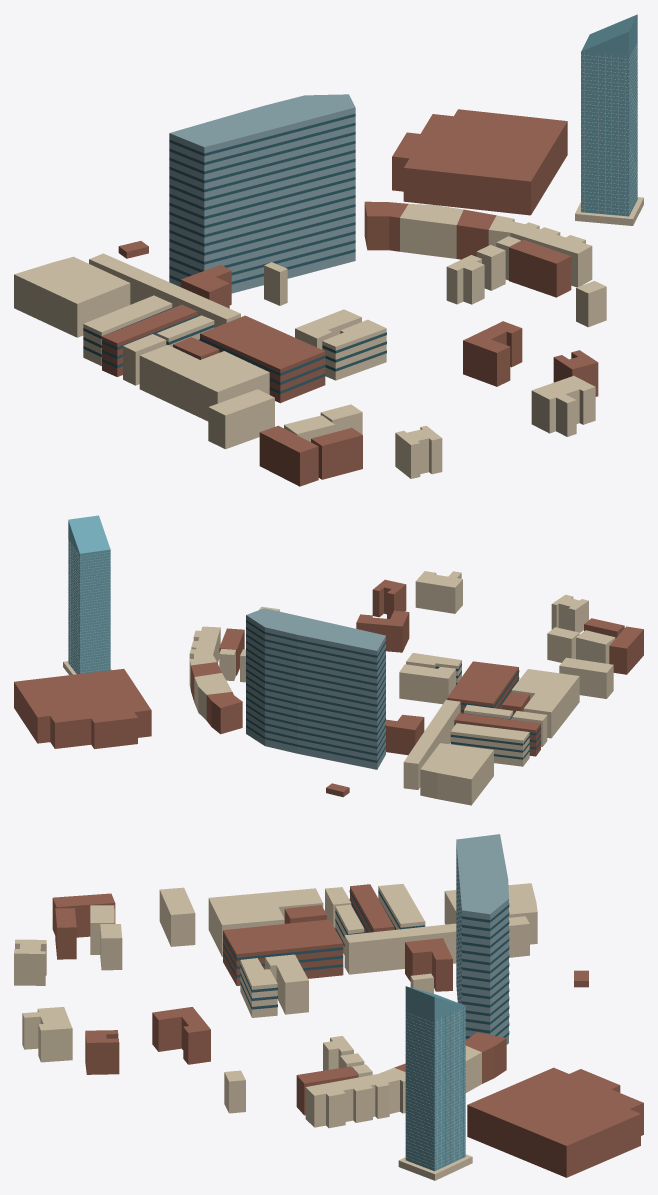
Rendered from city_0_-5.glb.
3 views of the same model, one above another, from view 1: azimuth 30°, elevation 25°; view 2: azimuth 150°, elevation 25°; view 3: azimuth 270°, elevation 25° (orthographic). The views are drawn at different scales.
Parts seen in each view (by area): view 1: city_0_-5; view 2: city_0_-5; view 3: city_0_-5.
Part boxes in pixels (bbox=[...]): city_0_-5: bbox=[14, 14, 643, 486]; city_0_-5: bbox=[14, 515, 643, 805]; city_0_-5: bbox=[14, 834, 643, 1180].
Size of the model in its own units: 268 by 85 by 269.
